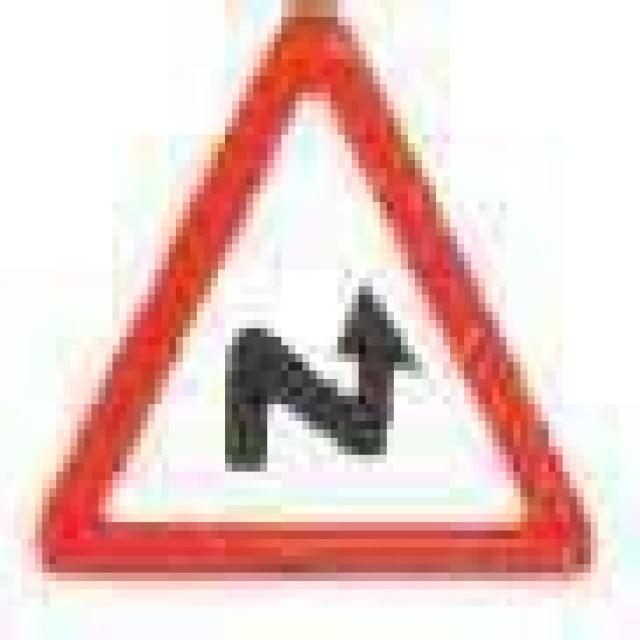right reverse bend: (30, 9, 607, 585)
